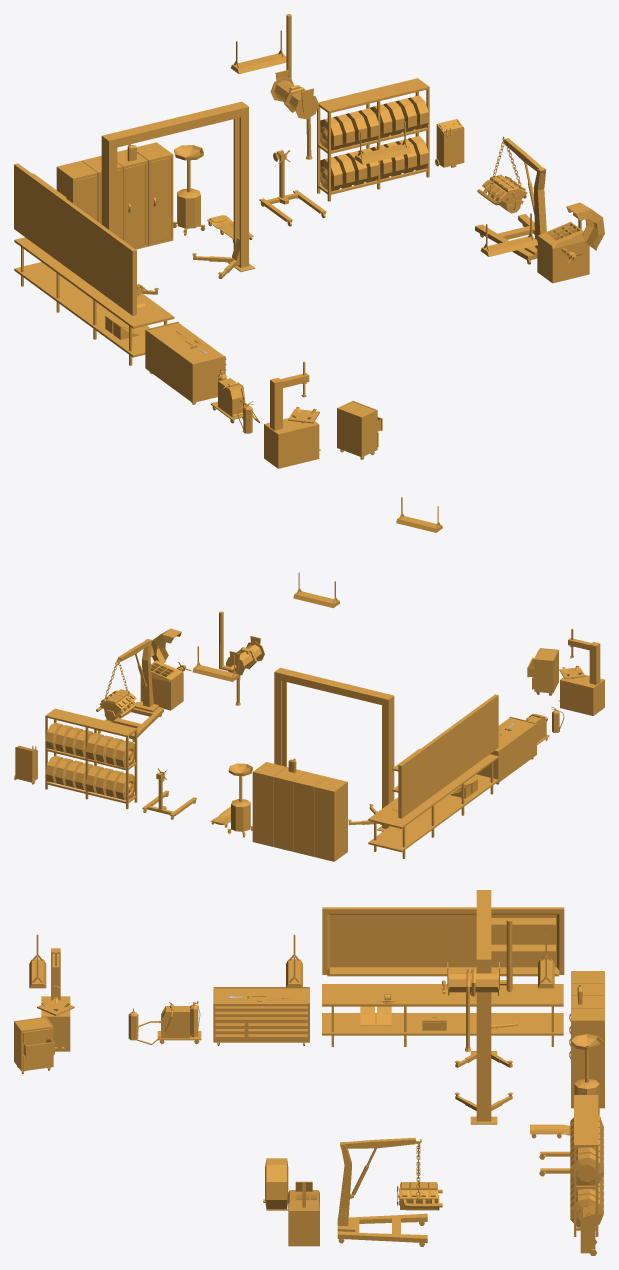
File: car-repair-tools.fbx
3 views of the same model, one above another, from view 1: azimuth 30°, elevation 25°; view 2: azimuth 150°, elevation 25°; view 3: azimuth 270°, elevation 25° (orthographic). The views are drawn at different scales.
Visible parts, largest first — view 1: car-repair-tools; view 2: car-repair-tools; view 3: car-repair-tools.
Part boxes in pixels (x1,y1,x2,y2): car-repair-tools: [14, 14, 604, 468]; car-repair-tools: [14, 497, 604, 861]; car-repair-tools: [14, 890, 604, 1255].
Bounding box in the file's own units: 11.17 × 5.27 × 12.22.
